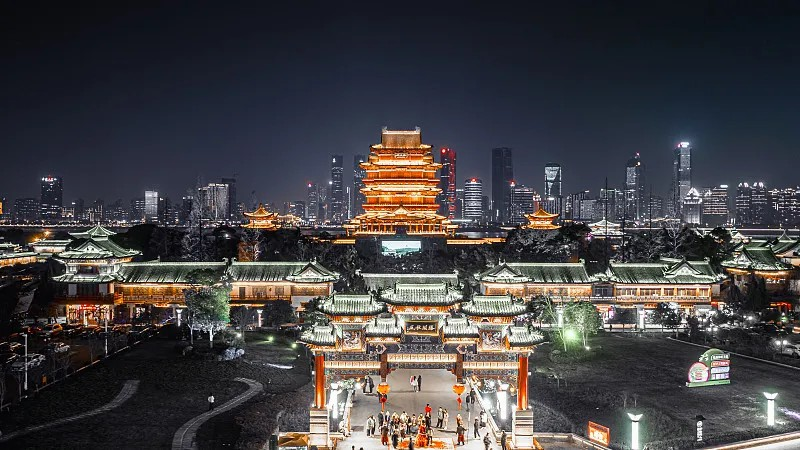Teng: (342, 125, 459, 239)
